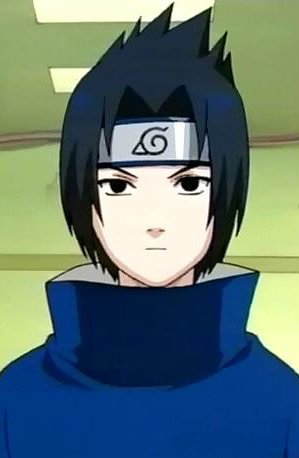sasuke: (87, 118, 224, 290)
